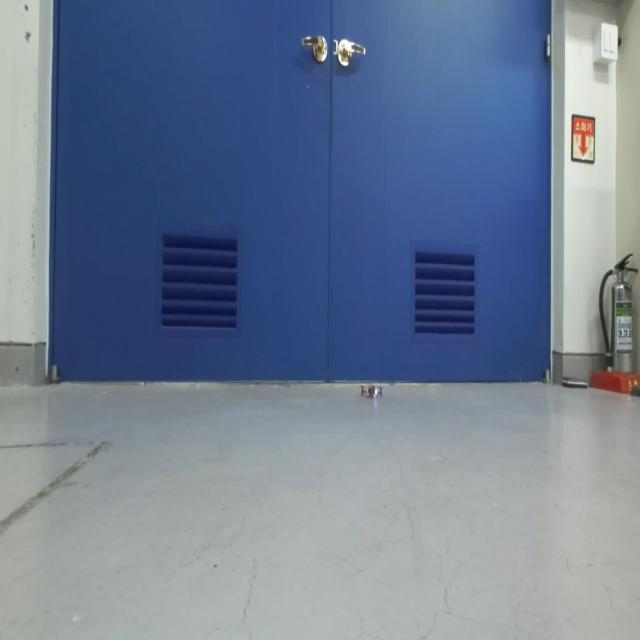crazyflie: (358, 379, 385, 404)
